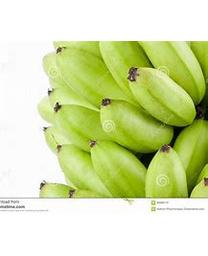banana: (34, 40, 206, 198)
